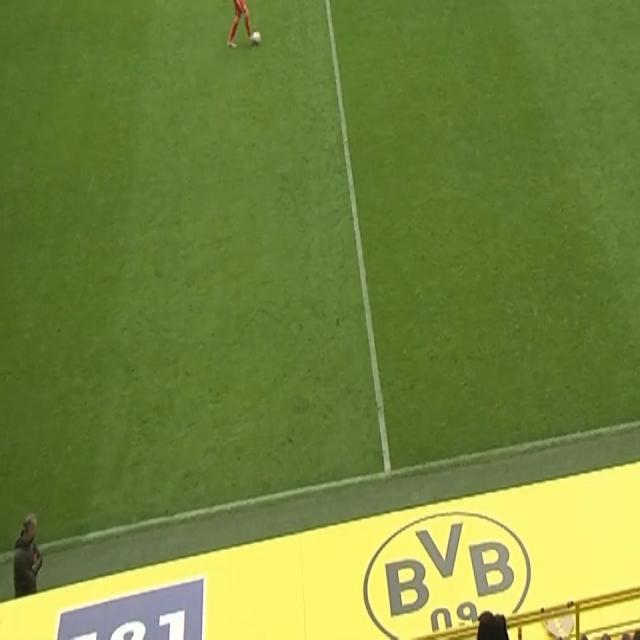ball: (250, 28, 262, 47)
